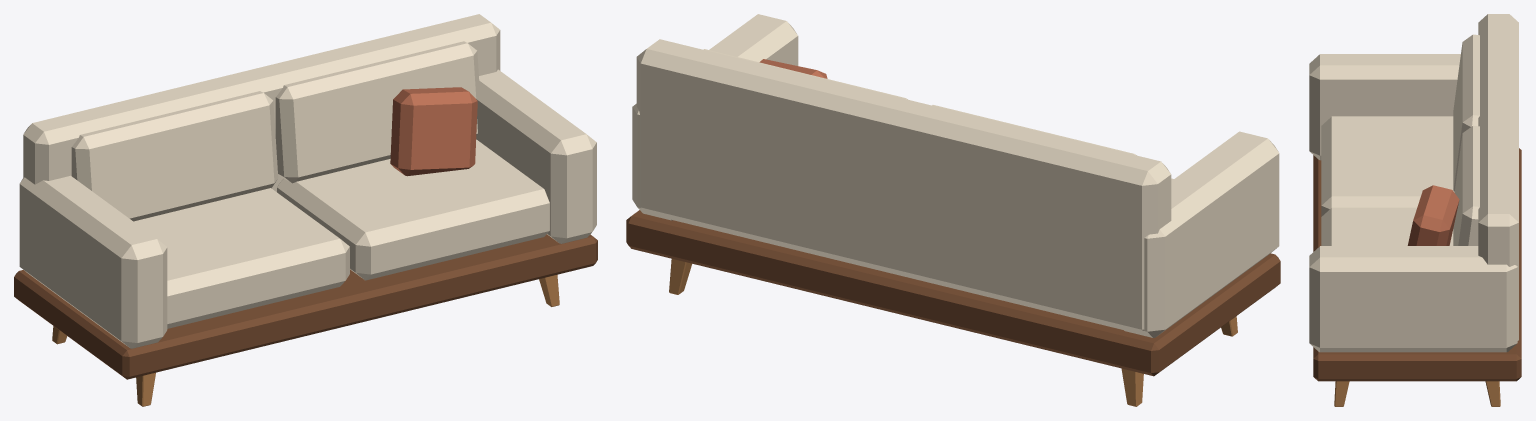
File: 04_sofa.glb
3 renders of one model, left to right at view 1: azimuth 30°, elevation 25°; view 2: azimuth 150°, elevation 25°; view 3: azimuth 270°, elevation 25°, orthographic. The views are drawn at different scales.
Parts seen in each view (by area): view 1: Exposed_walnut_base, Separate_seat_cushion.001, Separate_seat_cushion, Separate_back_cushion, Upholstered_arm, Separate_back_cushion.001, Upholstered_back_shell, Upholstered_arm.001, Terracotta_accent_pillow, Tapered_leg_00.002; view 2: Upholstered_back_shell, Exposed_walnut_base, Upholstered_arm, Upholstered_arm.001, Tapered_leg_02.002, Tapered_leg_03.002; view 3: Upholstered_arm.001, Separate_seat_cushion, Upholstered_back_shell, Upholstered_arm, Exposed_walnut_base, Separate_seat_cushion.001, Separate_back_cushion.001, Separate_back_cushion, Terracotta_accent_pillow, Tapered_leg_01.002, Tapered_leg_03.002.
Boxes of the visible parts, <box> form: Exposed_walnut_base: <box>14,234,597,379</box>; Separate_seat_cushion.001: <box>277,139,549,280</box>; Separate_seat_cushion: <box>134,188,349,328</box>; Separate_back_cushion: <box>71,91,278,221</box>; Upholstered_arm: <box>19,175,167,348</box>; Separate_back_cushion.001: <box>275,41,479,183</box>; Upholstered_back_shell: <box>23,14,500,191</box>; Upholstered_arm.001: <box>476,69,596,243</box>; Terracotta_accent_pillow: <box>390,87,477,176</box>; Tapered_leg_00.002: <box>136,372,155,406</box>; Upholstered_back_shell: <box>636,39,1171,330</box>; Exposed_walnut_base: <box>626,210,1280,376</box>; Upholstered_arm: <box>1119,131,1279,337</box>; Upholstered_arm.001: <box>632,14,798,220</box>; Tapered_leg_02.002: <box>1121,368,1143,406</box>; Tapered_leg_03.002: <box>669,259,691,294</box>; Upholstered_arm.001: <box>1309,246,1517,352</box>; Separate_seat_cushion: <box>1321,116,1454,216</box>; Upholstered_back_shell: <box>1478,14,1518,340</box>; Upholstered_arm: <box>1309,54,1460,160</box>; Exposed_walnut_base: <box>1313,148,1521,381</box>; Separate_seat_cushion.001: <box>1321,207,1453,245</box>; Separate_back_cushion.001: <box>1453,125,1479,245</box>; Separate_back_cushion: <box>1453,34,1479,191</box>; Terracotta_accent_pillow: <box>1407,185,1459,245</box>; Tapered_leg_01.002: <box>1334,381,1349,406</box>; Tapered_leg_03.002: <box>1485,381,1500,406</box>.
Bounding box in the file's own units: 1.86 × 0.815 × 0.785.
